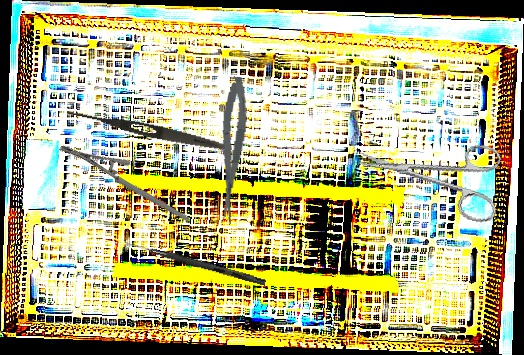Dressing Forceps: (64, 106, 228, 154)
Hook Surgical: (124, 240, 267, 286)
Iris Scissors: (351, 118, 510, 226)
Micro Scissor: (211, 75, 252, 225)
Needle Holder: (58, 114, 190, 253)
